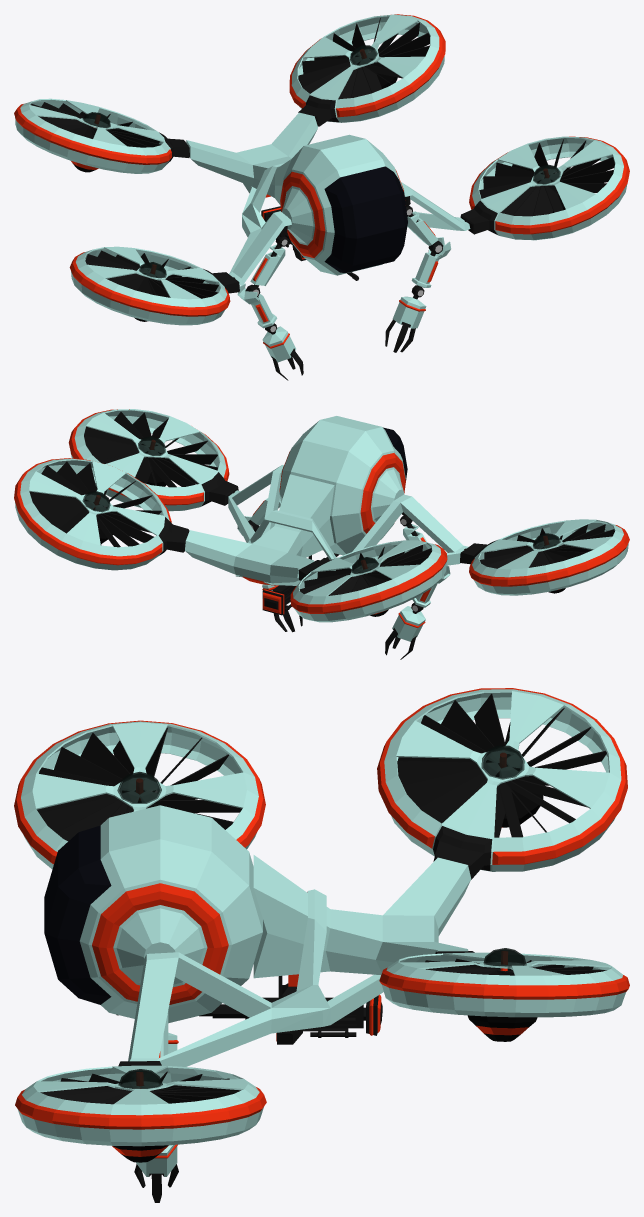
File: Drone_02.FBX
3 views of the same model, one above another, from view 1: azimuth 30°, elevation 25°; view 2: azimuth 150°, elevation 25°; view 3: azimuth 270°, elevation 25° (orthographic). The views are drawn at different scales.
Visible parts, largest first — view 1: droneHead, Drone_02, rotor_f-l, rotor_b-l, rotor_f-r, rotor_b-r, blades_f-l, blades_b-l, blades_f-r, rotorLight_f-r, rotorLight_f-l, rotorLight_b-r (+8 smaller); view 2: Drone_02, droneHead, rotor_b-l, rotor_f-l, rotor_f-r, rotor_b-r, blades_b-l, blades_f-l, blades_f-r, blades_b-r, rotorLight_b-l, rotorLight_f-r (+5 smaller); view 3: droneHead, Drone_02, rotor_b-r, rotor_f-r, rotor_f-l, blades_b-r, rotor_b-l, blades_f-r, rotorLight_b-r, rotorLight_f-l, rotorLight_b-l, blades_f-l (+5 smaller).
Part boxes in pixels (x1,y1,x2,y2): droneHead: (280, 134, 407, 275); Drone_02: (186, 112, 470, 285); rotor_f-l: (460, 136, 627, 240); rotor_b-l: (291, 14, 444, 126); rotor_f-r: (71, 246, 239, 325); rotor_b-r: (15, 98, 189, 173); blades_f-l: (479, 139, 614, 216); blades_b-l: (298, 18, 430, 99); blades_f-r: (85, 250, 218, 298); rotorLight_f-r: (69, 252, 230, 316); rotorLight_f-l: (469, 136, 629, 234); rotorLight_b-r: (14, 104, 171, 164); Drone_02: (185, 465, 468, 585); droneHead: (279, 416, 407, 555); rotor_b-l: (15, 458, 189, 570); rotor_f-l: (70, 409, 238, 511); rotor_f-r: (460, 519, 628, 595); rotor_b-r: (293, 540, 446, 622); blades_b-l: (29, 461, 161, 547); blades_f-l: (84, 412, 217, 487); blades_f-r: (479, 524, 614, 568); blades_b-r: (299, 545, 431, 595); rotorLight_b-l: (14, 458, 171, 565); rotorLight_f-r: (469, 525, 629, 586); droneHead: (44, 805, 262, 1023); Drone_02: (128, 855, 471, 1066); rotor_b-r: (384, 689, 621, 879); rotor_f-r: (21, 721, 258, 869); rotor_f-l: (17, 1061, 263, 1146); blades_b-r: (397, 693, 606, 837); rotor_b-l: (381, 948, 625, 1017); blades_f-r: (37, 727, 242, 841); rotorLight_b-r: (377, 688, 627, 864); rotorLight_f-l: (15, 1087, 266, 1129); rotorLight_b-l: (379, 967, 629, 999); blades_f-l: (40, 1071, 240, 1104).
Bounding box in the file's own units: 111 × 72.04 × 43.58.
